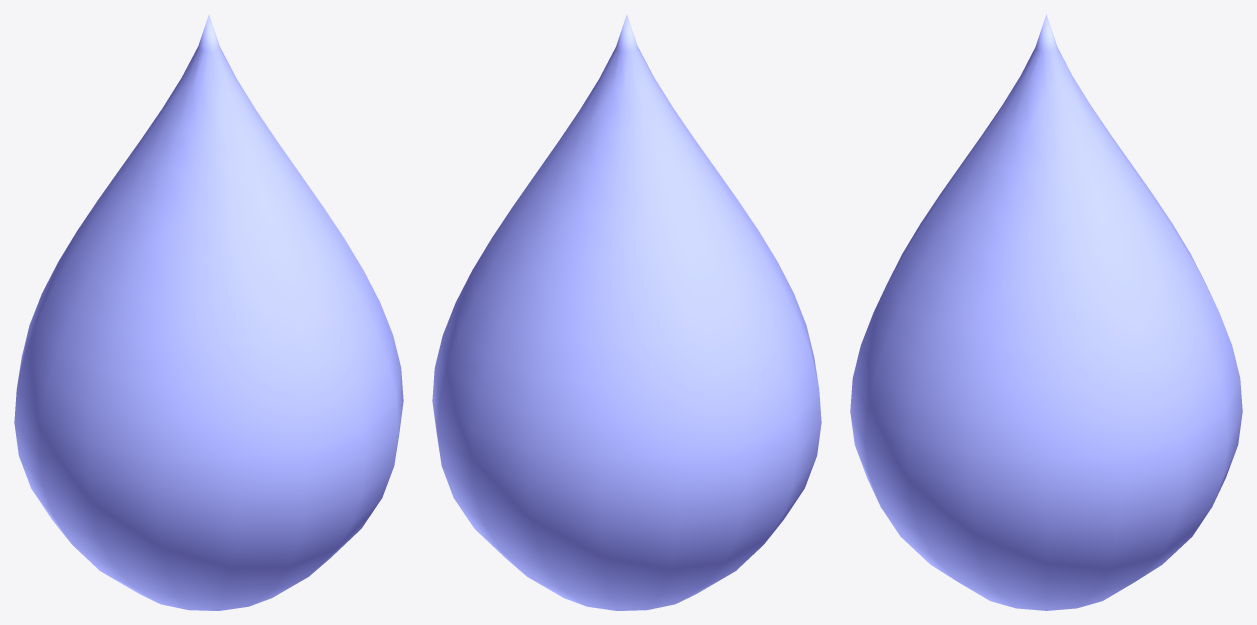
The model's file is lagrima_universo.fbx.
3 views of the same model, side by side, from view 1: azimuth 30°, elevation 25°; view 2: azimuth 150°, elevation 25°; view 3: azimuth 270°, elevation 25° (orthographic).
Parts seen in each view (by area): view 1: lagrima_universo_cristal; view 2: lagrima_universo_cristal; view 3: lagrima_universo_cristal.
Part boxes in pixels (box(x1,y1,x2,y2)): lagrima_universo_cristal: box(14, 14, 403, 610); lagrima_universo_cristal: box(432, 14, 821, 610); lagrima_universo_cristal: box(850, 14, 1242, 610).
Bounding box in the file's own units: 2.5 × 4.2 × 2.5.
Materials: 2 (2 with a texture image).
